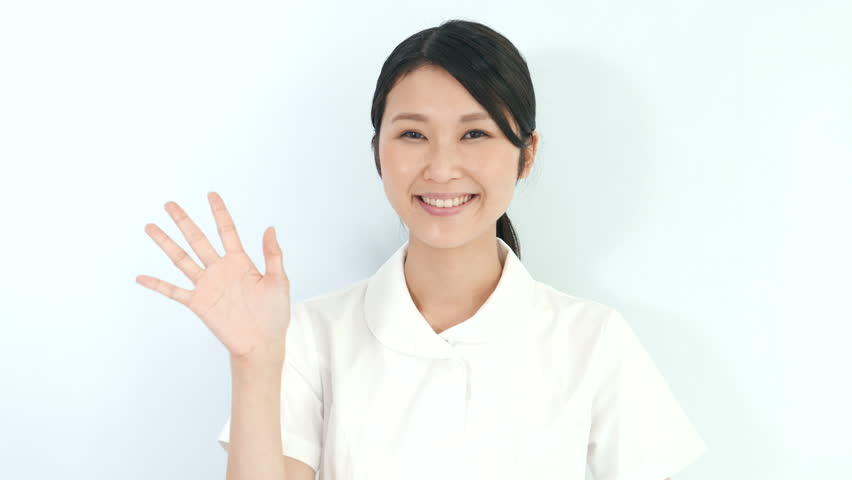open_hand: (119, 177, 314, 370)
